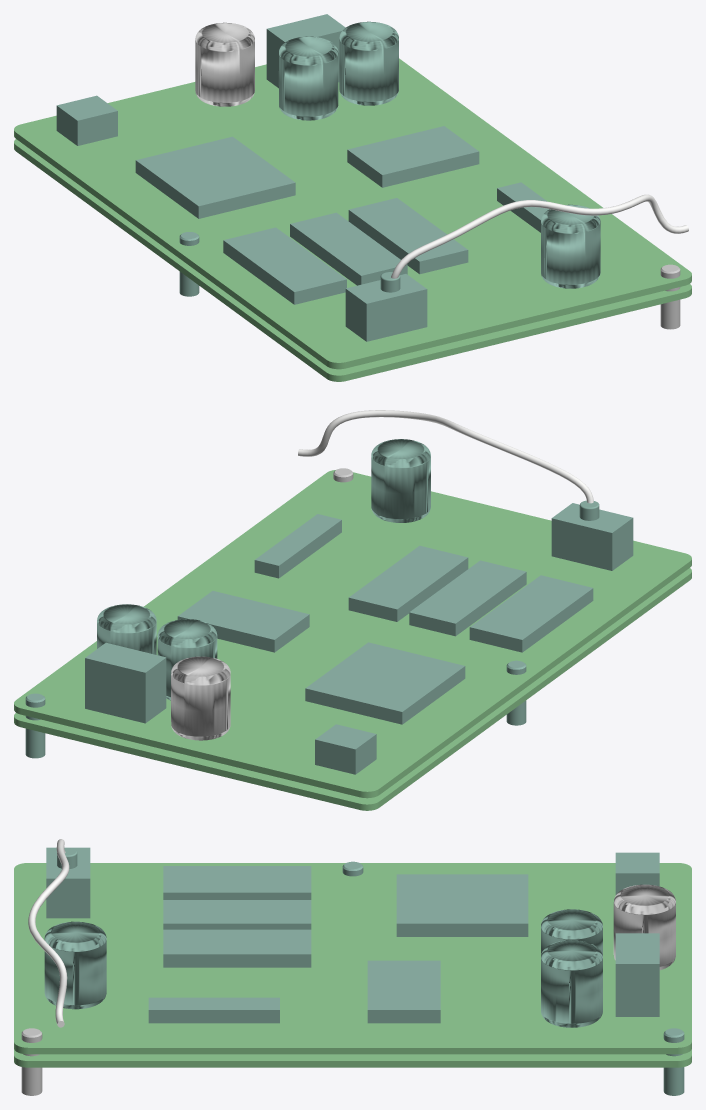
Rendered from Astro_Vac_MainLogicBoard.fbx.
3 views of the same model, one above another, from view 1: azimuth 30°, elevation 25°; view 2: azimuth 150°, elevation 25°; view 3: azimuth 270°, elevation 25° (orthographic). The views are drawn at different scales.
Visible parts, largest first — view 1: MainLogicBoard.001; view 2: MainLogicBoard.001; view 3: MainLogicBoard.001.
Part boxes in pixels (x1,y1,x2,y2): MainLogicBoard.001: [14, 14, 691, 381]; MainLogicBoard.001: [14, 410, 691, 810]; MainLogicBoard.001: [14, 839, 691, 1095].
Size of the model in its own units: 7.88 by 2.92 by 11.8.
